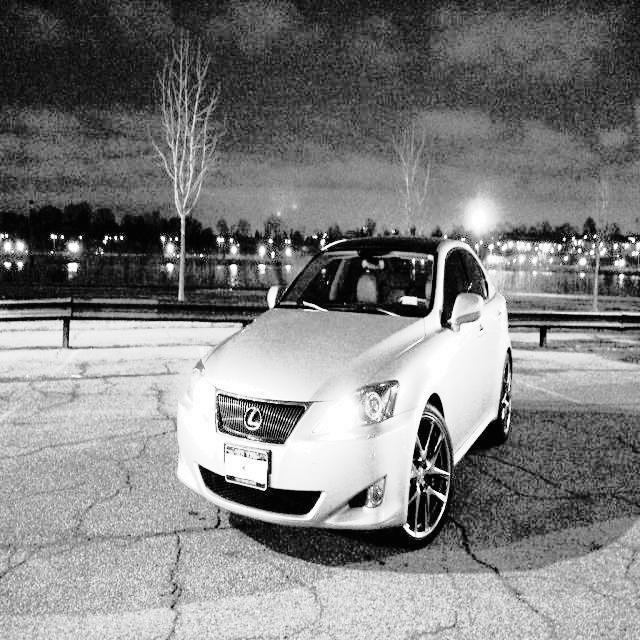Car: (173, 181, 516, 554)
Tree: (147, 32, 224, 303)
